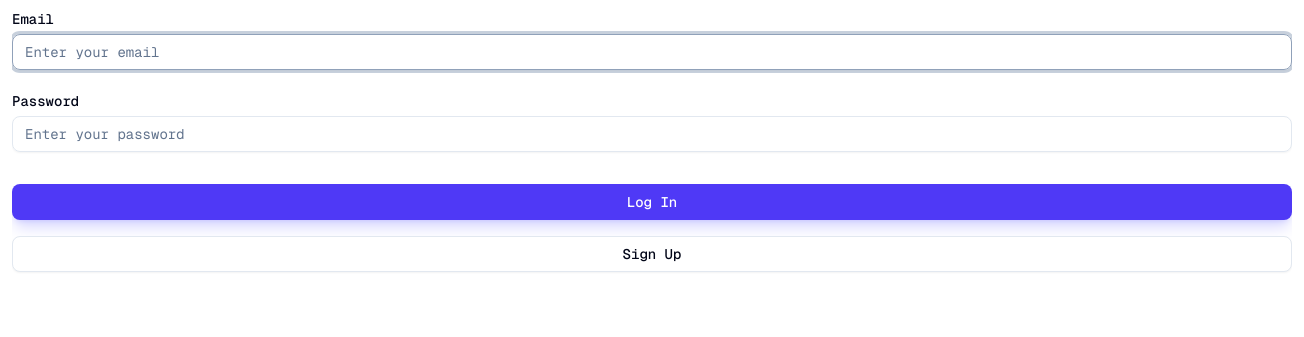
Test: AuthForm › login › shows error message when login fails
In the field with test id "auth-form-email": [652, 52] box [12,34,1292,70], type "test@example.com"
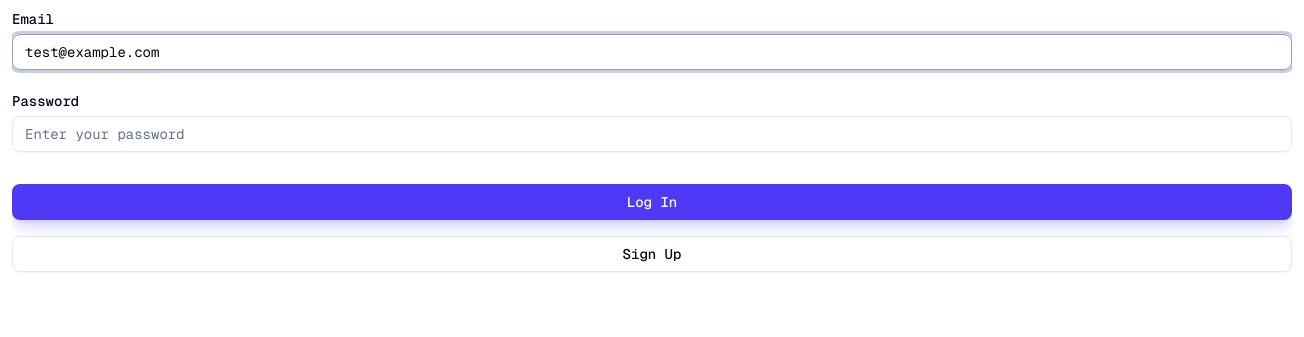
In the password field with test id "auth-form-password": [652, 134] box [12,116,1292,152], type "password"
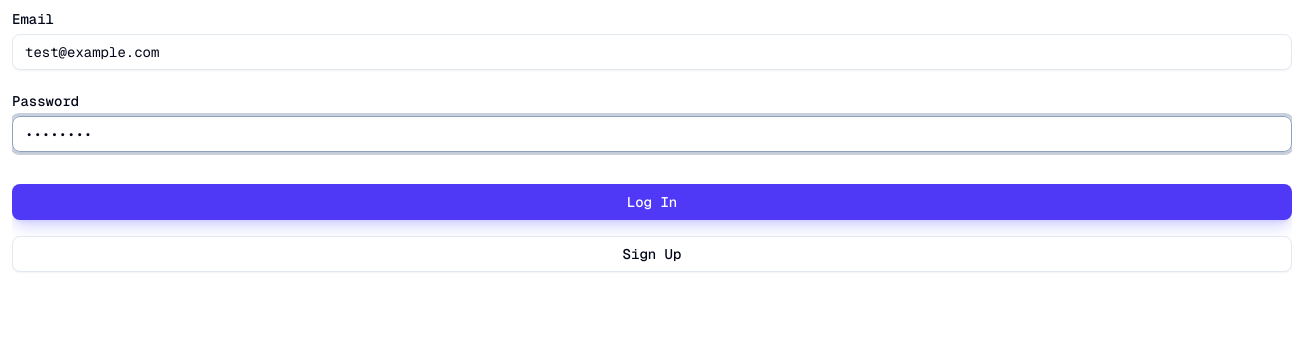
Click the button with test id "auth-form-login": [652, 202] box [12,184,1292,220]
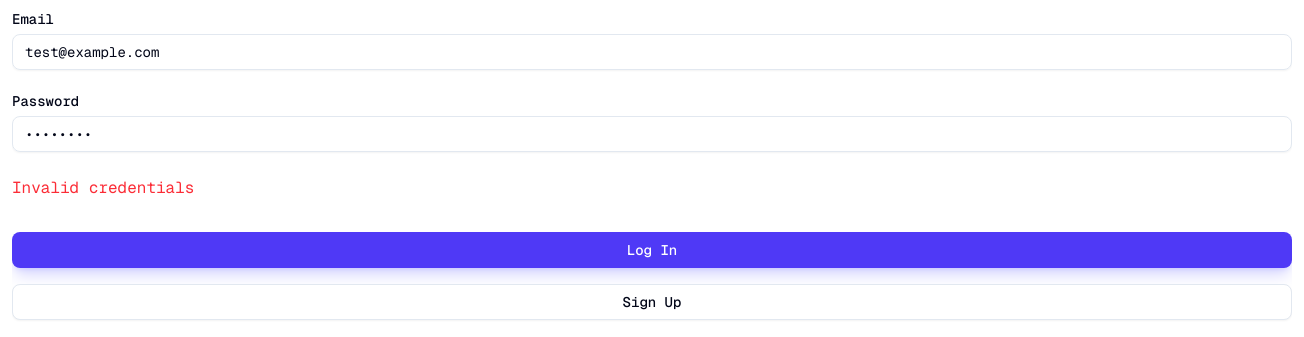
Expected: the text with test id "auth-form-error" reads "Invalid credentials", [12,177,194,198]
